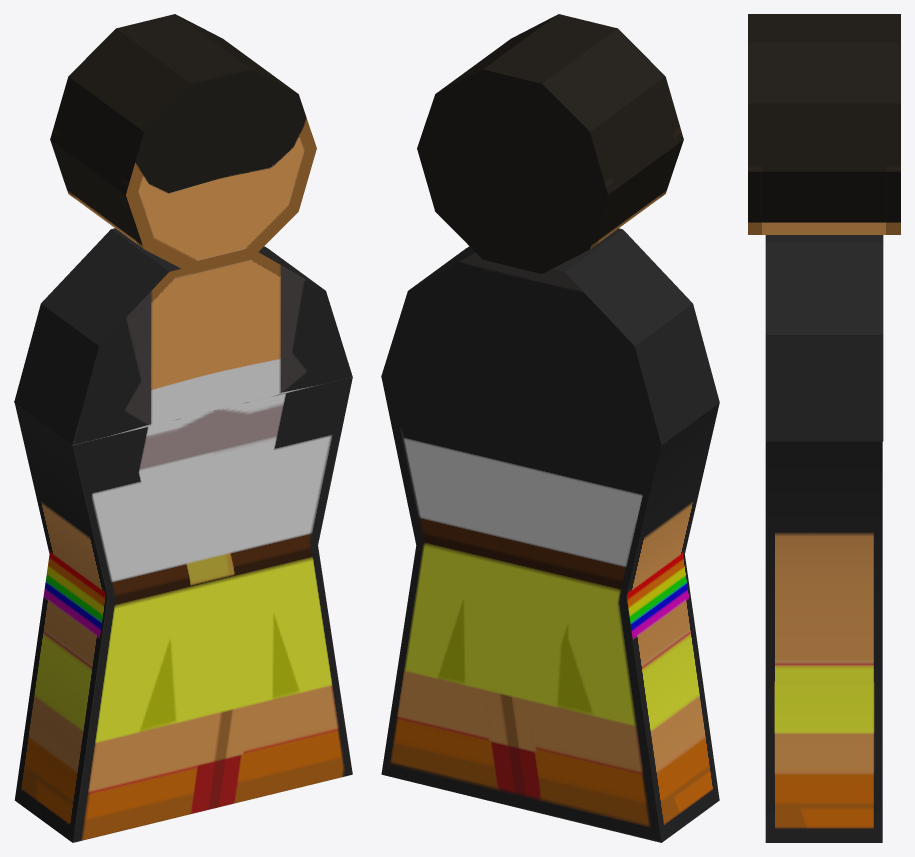
File: human_bell.fbx
3 views of the same model, side by side, from view 1: azimuth 30°, elevation 25°; view 2: azimuth 150°, elevation 25°; view 3: azimuth 270°, elevation 25° (orthographic).
Visible parts, largest first — view 1: polySurface4, pCylinder4; view 2: polySurface4, pCylinder4; view 3: polySurface4, pCylinder4.
Part boxes in pixels (x1,y1,x2,y2): polySurface4: (14,228,352,842); pCylinder4: (50,14,316,273); polySurface4: (381,228,719,842); pCylinder4: (417,14,683,273); polySurface4: (765,235,883,842); pCylinder4: (748,14,900,234).
Size of the model in its own units: 1.78 by 4.47 by 0.8315.
